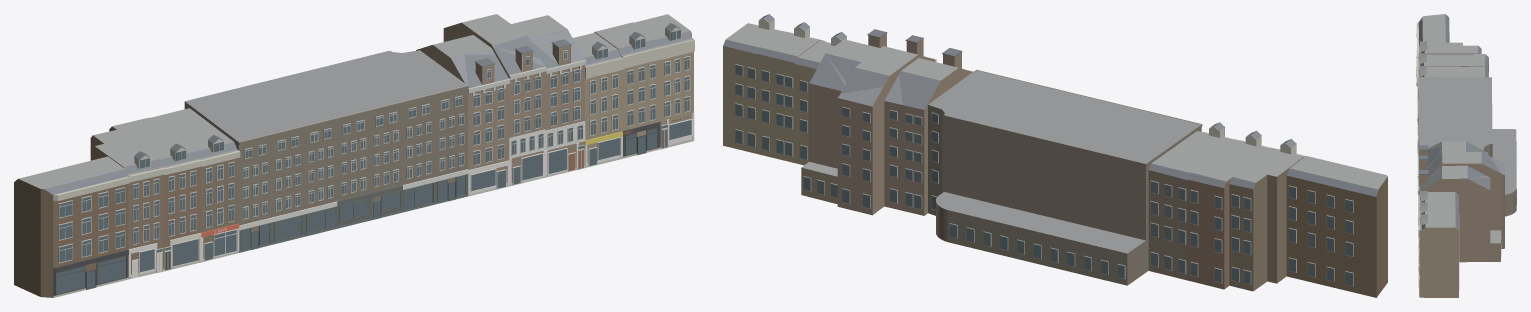
Rendered from chunk-face-kinker-1-29.glb.
3 renders of one model, left to right at view 1: azimuth 30°, elevation 25°; view 2: azimuth 150°, elevation 25°; view 3: azimuth 270°, elevation 25°, orthographic. The views are drawn at different scales.
Visible parts, largest first — view 1: face-kinker-1-29; view 2: face-kinker-1-29; view 3: face-kinker-1-29.
Boxes of the visible parts, box(x1,y1,x2,y2) form: face-kinker-1-29: box(14, 14, 694, 297); face-kinker-1-29: box(723, 14, 1387, 297); face-kinker-1-29: box(1416, 14, 1516, 297).
Bounding box in the file's own units: 95.98 × 18.11 × 19.22.
